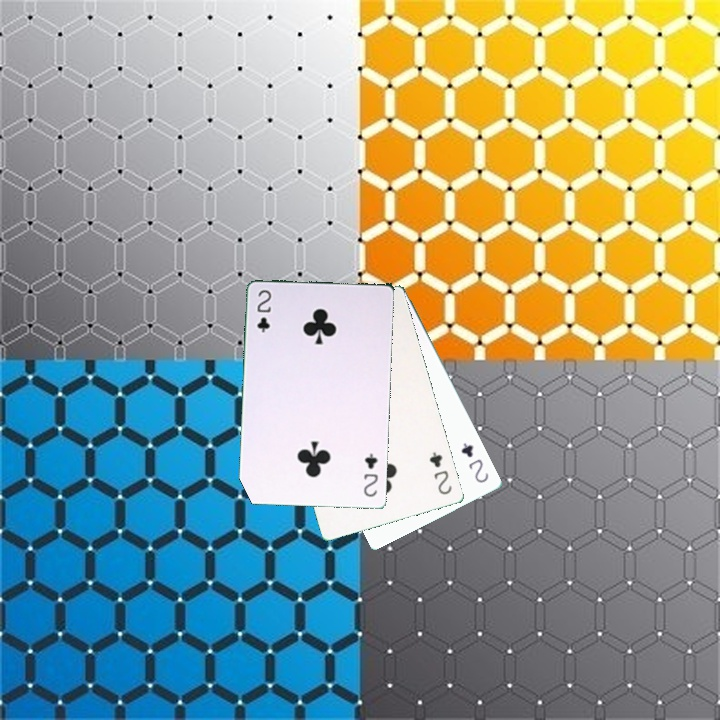2c: (457, 439, 491, 485), (425, 448, 454, 497), (253, 286, 274, 335), (360, 449, 380, 499)
